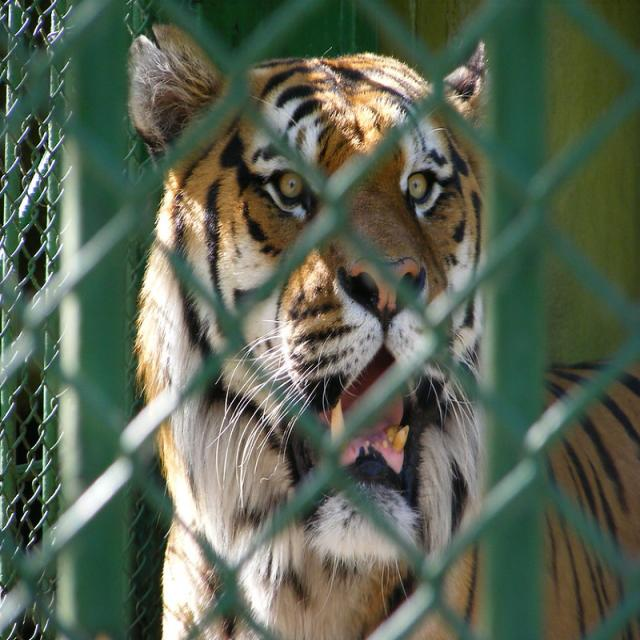Tiger: (127, 23, 638, 636)
